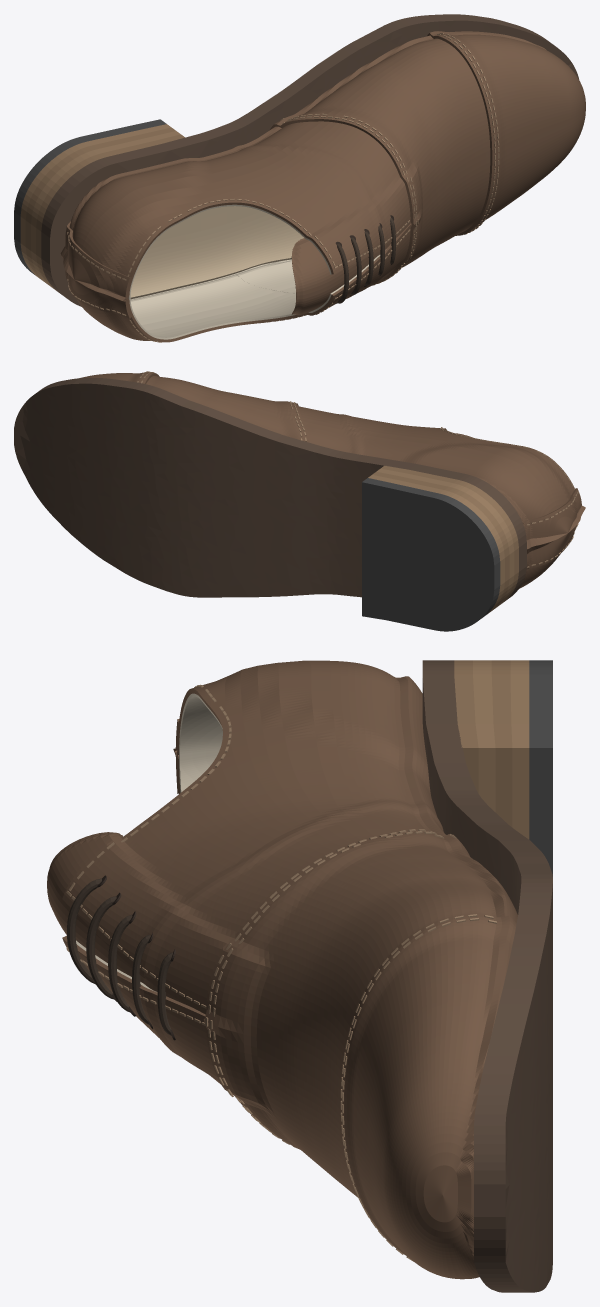
The model's file is oxford_42_dx.glb.
The picture shows the model from 3 angles, top to bottom: view 1: azimuth 30°, elevation 25°; view 2: azimuth 150°, elevation 25°; view 3: azimuth 270°, elevation 25°; orthographic projection. The views are drawn at different scales.
Visible parts, largest first — view 1: quartiere_interno, mascherina, puntale, guardolo, sottopiede, fodera_quartiere_esterno, suola, bacchetta, quartiere_esterno, linguetta, sopratacco, tacco_alzo_4 (+8 smaller); view 2: suola, sopratacco, quartiere_interno, mascherina, bacchetta, guardolo, tacco_alzo_2, tacco_alzo_4, tacco_alzo_1, tacco_alzo_3, puntale; view 3: quartiere_interno, mascherina, puntale, suola, guardolo, sopratacco, quartiere_esterno, linguetta, tacco_alzo_4, tacco_alzo_3, tacco_alzo_2, fodera_quartiere_interno (+8 smaller).
Part boxes in pixels (<box>): quartiere_interno: <box>69,121,410,299</box>; mascherina: <box>269,35,490,284</box>; puntale: <box>427,31,585,235</box>; guardolo: <box>46,18,579,306</box>; sottopiede: <box>130,206,303,299</box>; fodera_quartiere_esterno: <box>128,255,380,339</box>; suola: <box>41,14,547,294</box>; bacchetta: <box>60,221,131,318</box>; quartiere_esterno: <box>77,223,411,342</box>; linguetta: <box>291,238,391,315</box>; sopratacco: <box>14,119,166,275</box>; tacco_alzo_4: <box>20,124,171,278</box>; suola: <box>14,380,523,601</box>; sopratacco: <box>362,478,500,631</box>; quartiere_interno: <box>298,406,574,521</box>; mascherina: <box>146,376,309,442</box>; bacchetta: <box>522,488,585,569</box>; guardolo: <box>42,378,526,597</box>; tacco_alzo_2: <box>377,468,514,607</box>; tacco_alzo_4: <box>368,475,504,614</box>; tacco_alzo_1: <box>381,465,518,603</box>; tacco_alzo_3: <box>372,471,509,611</box>; puntale: <box>79,372,159,383</box>; quartiere_interno: <box>62,660,445,1014</box>; mascherina: <box>204,828,517,1197</box>; puntale: <box>341,913,516,1279</box>; suola: <box>434,660,552,1292</box>; guardolo: <box>422,660,533,1292</box>; sopratacco: <box>529,660,552,876</box>; quartiere_esterno: <box>62,753,220,1084</box>; linguetta: <box>47,832,190,1006</box>; tacco_alzo_4: <box>510,660,529,839</box>; tacco_alzo_3: <box>491,660,512,826</box>; tacco_alzo_2: <box>473,660,495,812</box>; fodera_quartiere_interno: <box>179,693,222,757</box>.
Bounding box in the file's own units: 293 × 109 × 128.
